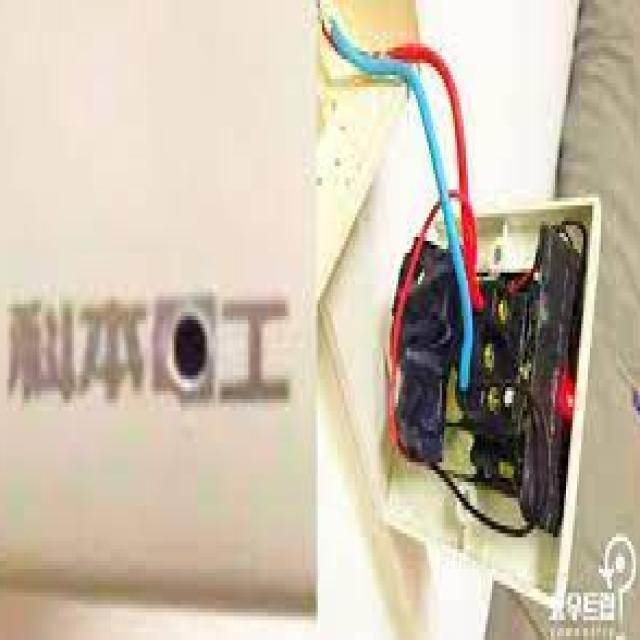hidden camera: (169, 311, 212, 388)
